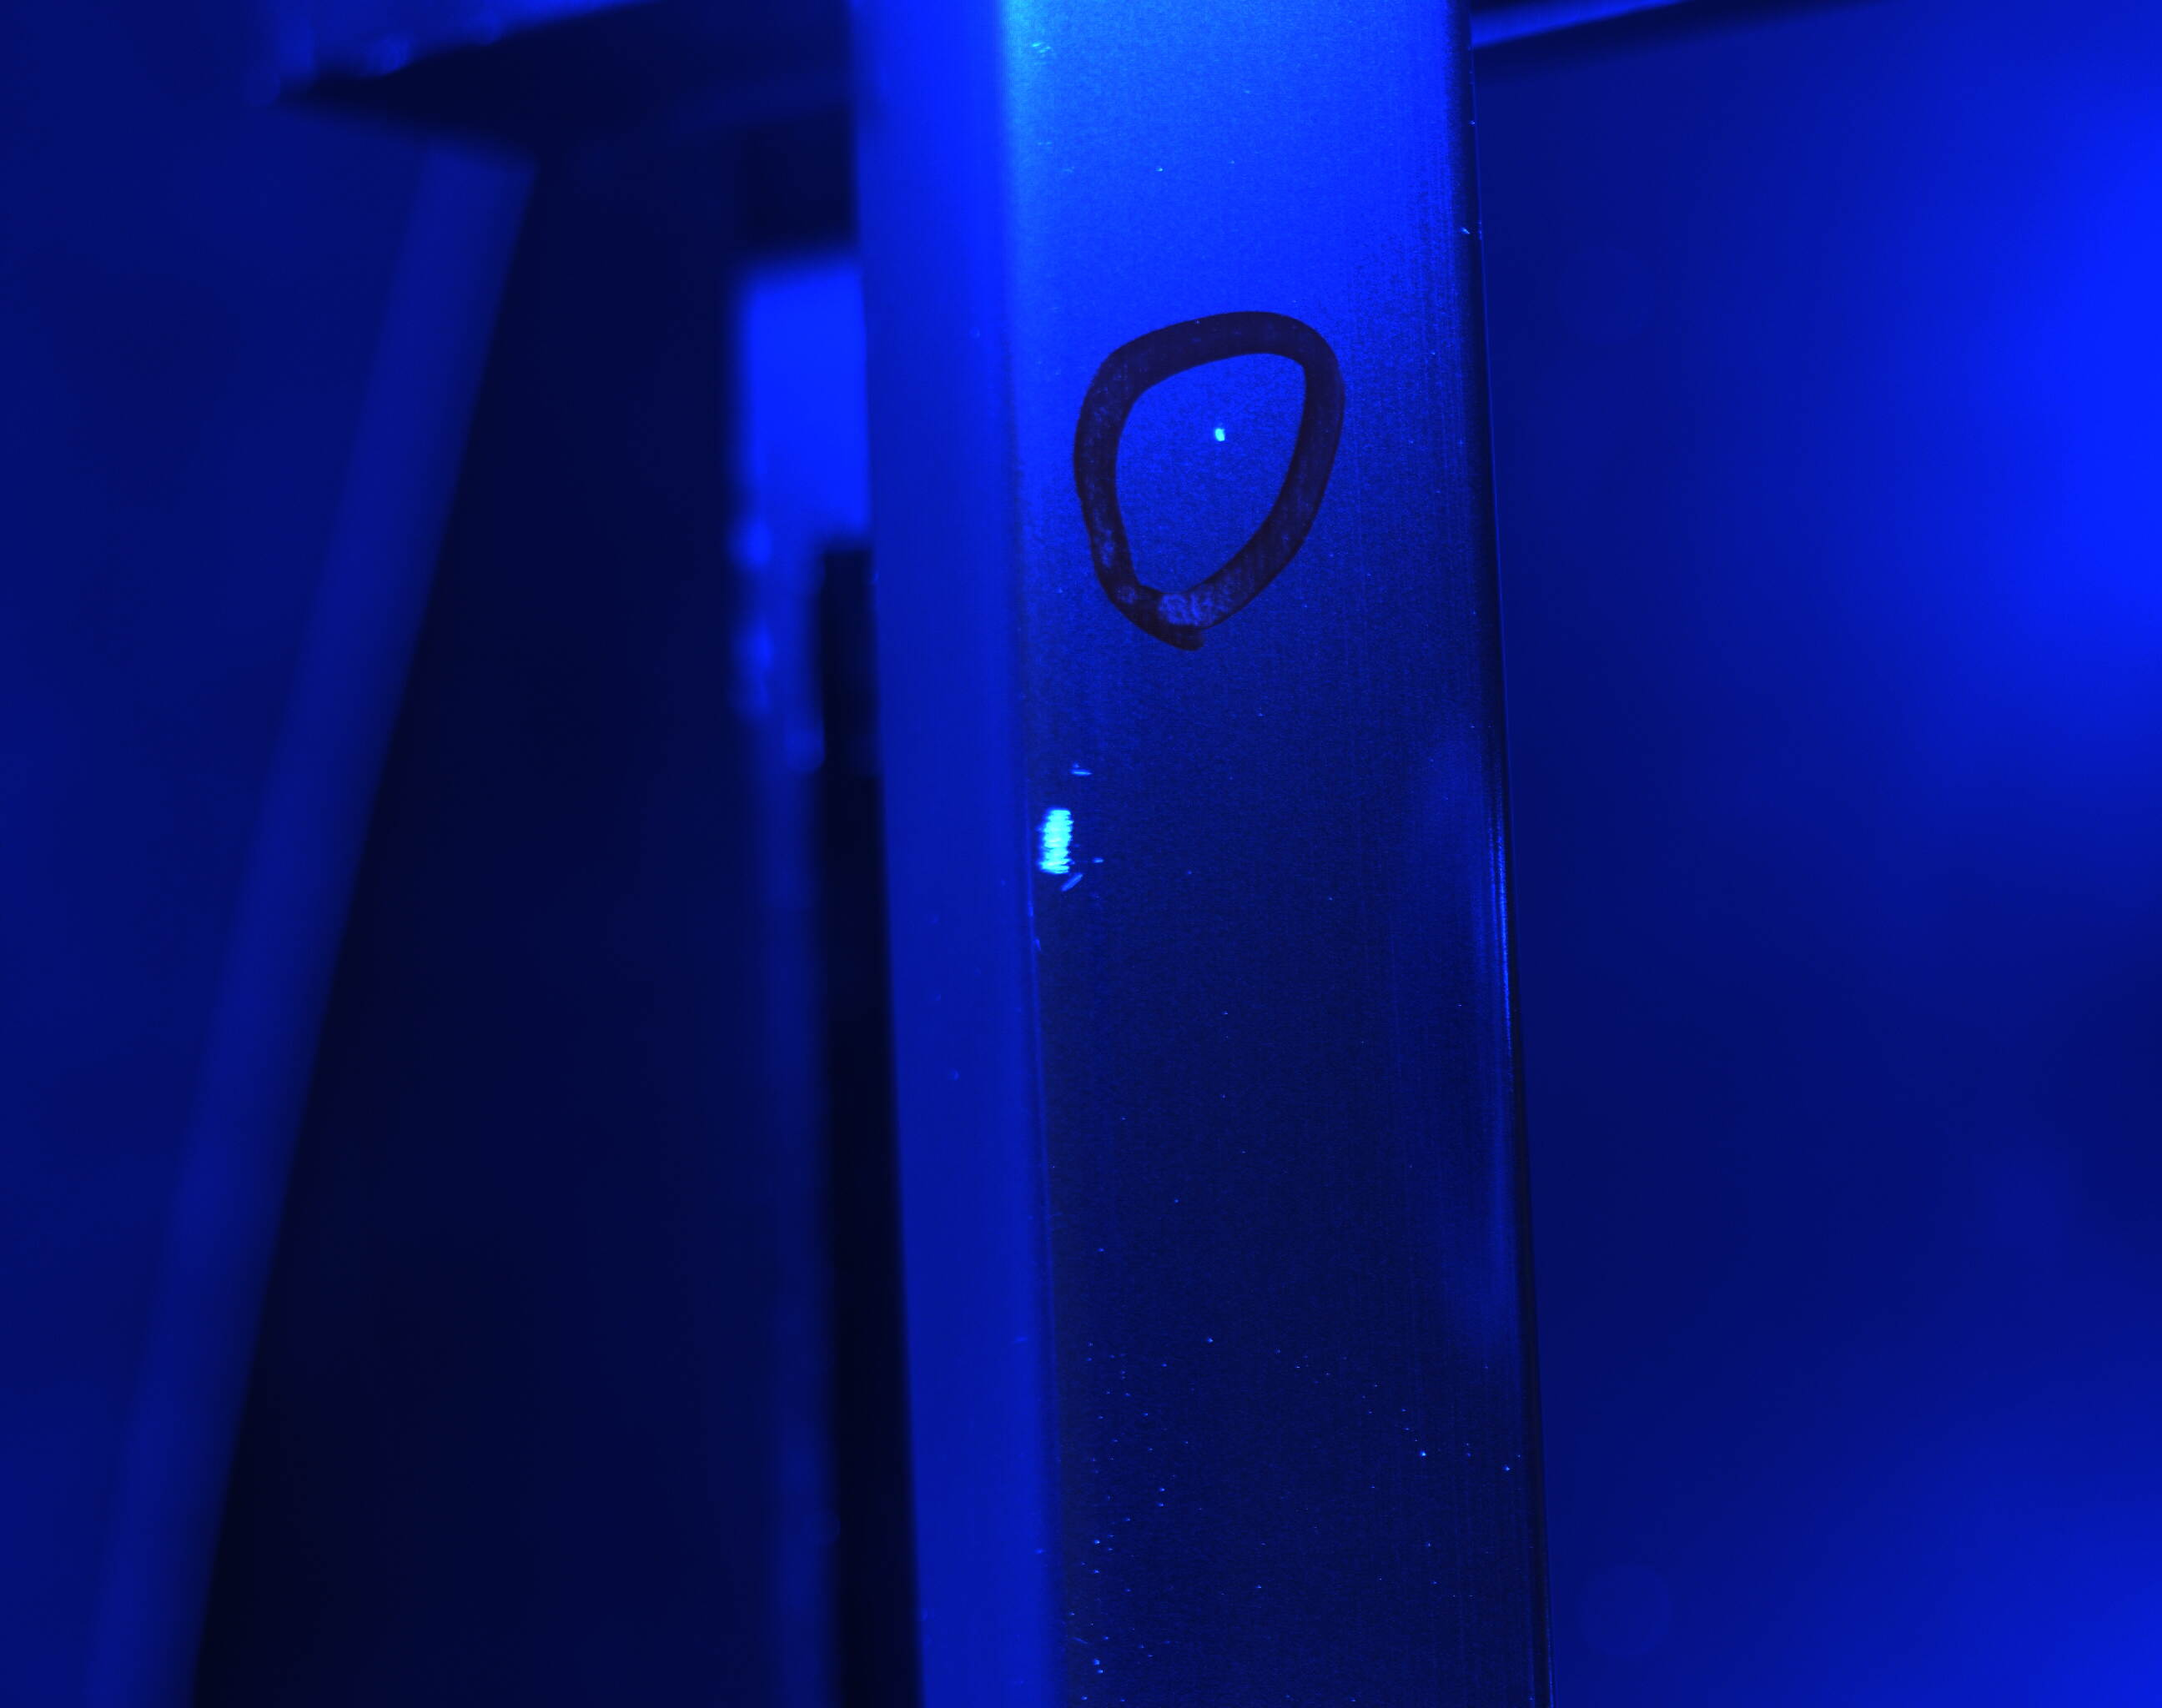NG: (1023, 785, 1114, 897), (1199, 404, 1246, 481)
